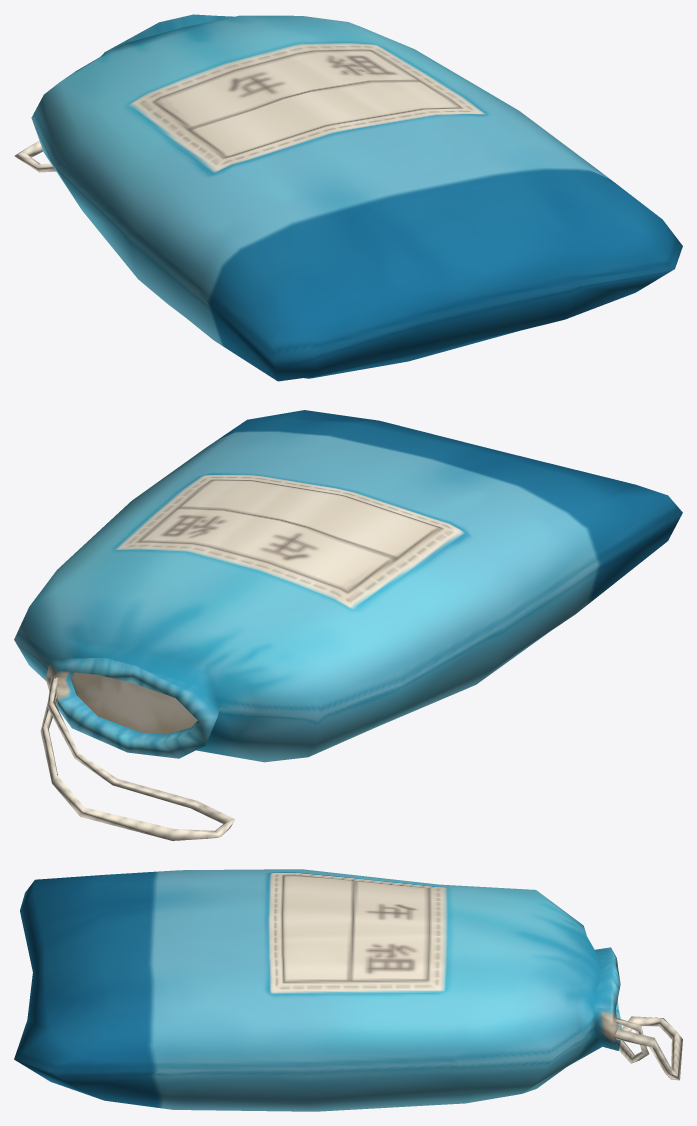
File: Bag_B_01_01.fbx
The picture shows the model from 3 angles, top to bottom: view 1: azimuth 30°, elevation 25°; view 2: azimuth 150°, elevation 25°; view 3: azimuth 270°, elevation 25°; orthographic projection. The views are drawn at different scales.
Visible parts, largest first — view 1: bag_B_01_01; view 2: bag_B_01_01; view 3: bag_B_01_01.
Boxes of the visible parts, left/top/right/bottom form: bag_B_01_01: left=14, top=14, right=682, bottom=381; bag_B_01_01: left=14, top=410, right=682, bottom=840; bag_B_01_01: left=14, top=869, right=682, bottom=1111.
Bounding box in the file's own units: 21.81 × 9.12 × 34.41.
